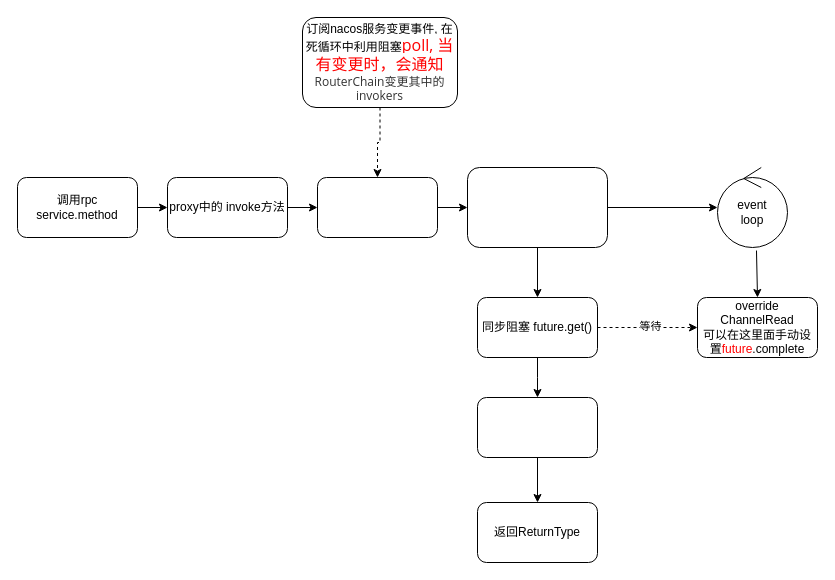
This 835x580 diagram has some shape labels left out. Here are the shapes that lost their labels. From the top down, the centre of each, then its label:
At [377,207]: "根据LB策略在invokers中选择合适的invoker (ip/port) 发送msg".
At [537,207]: "channel.send(msg) 此时可以创建一个 future 用于接收response".
At [537,427]: "deserialize 根据二进制字节流和ReturnType反序列化 例如 kyro.readObject".
